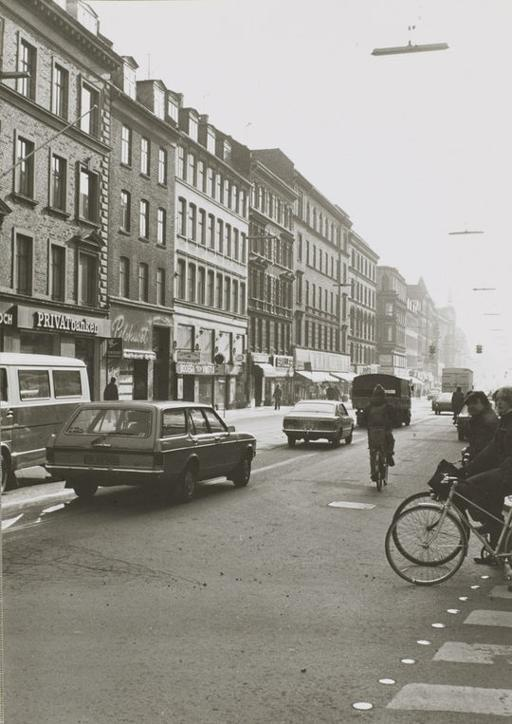non-vehicle: (383, 471, 511, 587), (391, 458, 511, 567), (367, 447, 394, 491)
